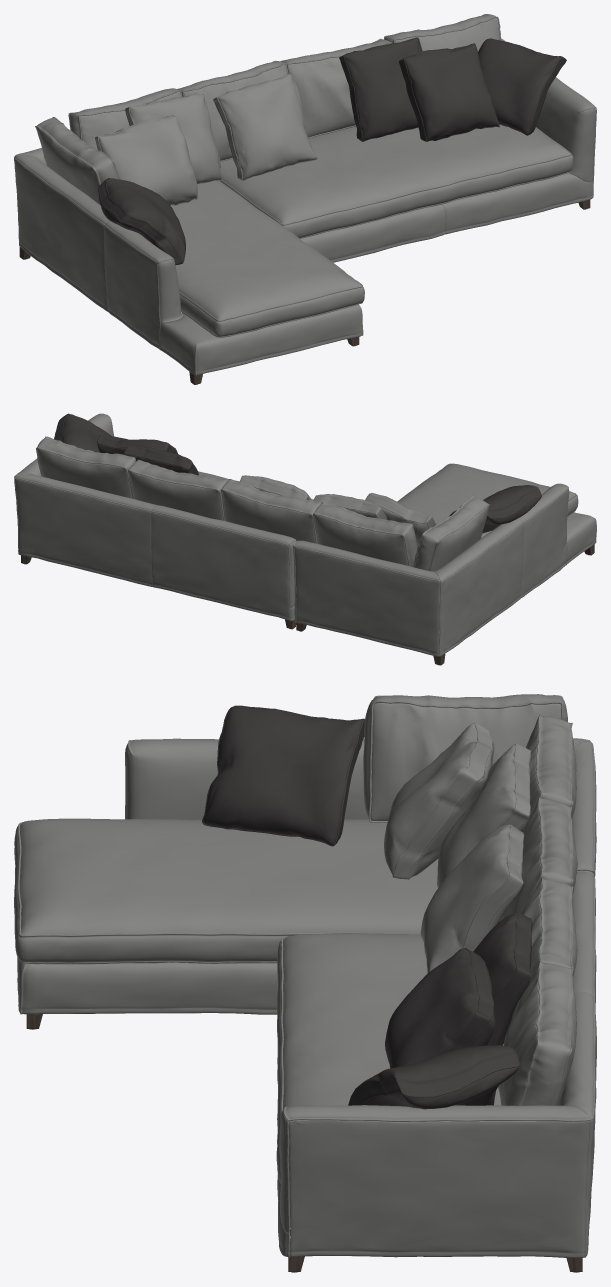
The model's file is Lkoltuk.glb.
3 views of the same model, one above another, from view 1: azimuth 30°, elevation 25°; view 2: azimuth 150°, elevation 25°; view 3: azimuth 270°, elevation 25° (orthographic). The views are drawn at different scales.
Visible parts, largest first — view 1: 070; view 2: 070; view 3: 070.
Part boxes in pixels (left/top/right/bottom): 070: left=14, top=14, right=596, bottom=384; 070: left=14, top=413, right=596, bottom=665; 070: left=14, top=694, right=596, bottom=1272.
Bounding box in the file's own units: 7.28 × 2.03 × 4.64.
Materials: 4 (2 with a texture image).
